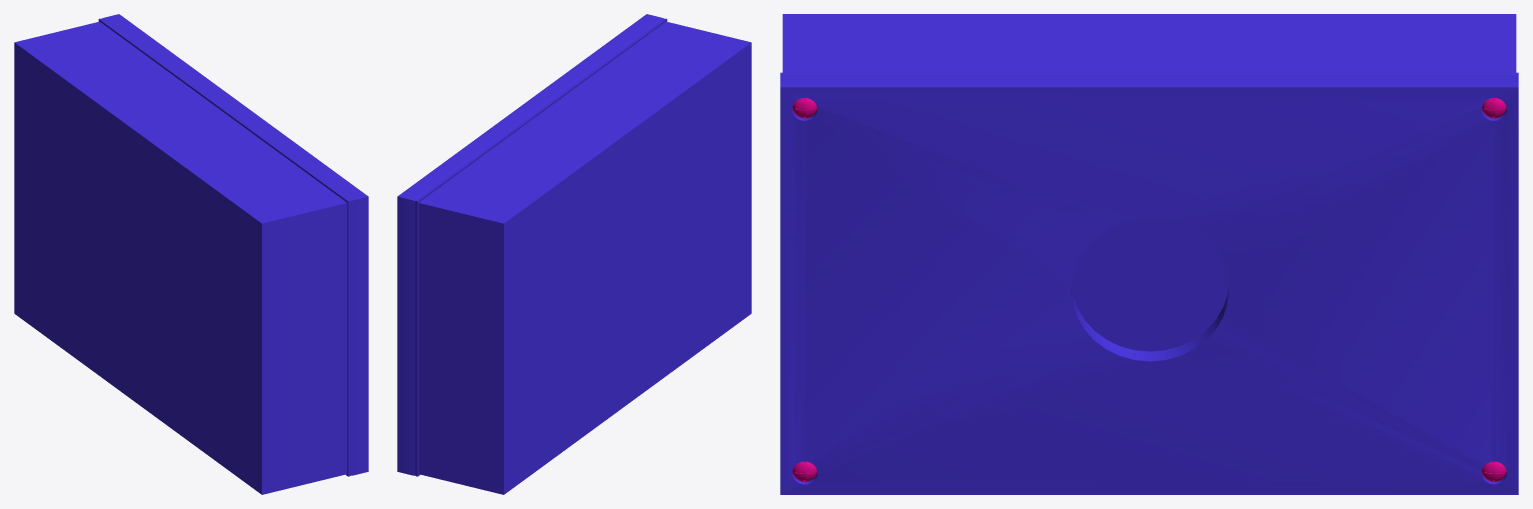
File: cajaManivela_low.fbx
The picture shows the model from 3 angles, left to right: view 1: azimuth 30°, elevation 25°; view 2: azimuth 150°, elevation 25°; view 3: azimuth 270°, elevation 25°; orthographic projection. The views are drawn at different scales.
Visible parts, largest first — view 1: m_cajaManivela_low; view 2: m_cajaManivela_low; view 3: m_cajaManivela_low, m_tornillos_low.
Boxes of the visible parts, left/top/right/bottom form: m_cajaManivela_low: left=14, top=14, right=368, bottom=494; m_cajaManivela_low: left=397, top=14, right=751, bottom=494; m_cajaManivela_low: left=780, top=14, right=1518, bottom=494; m_tornillos_low: left=792, top=98, right=1506, bottom=481.
Size of the model in its own units: 378 by 936 by 1538.
